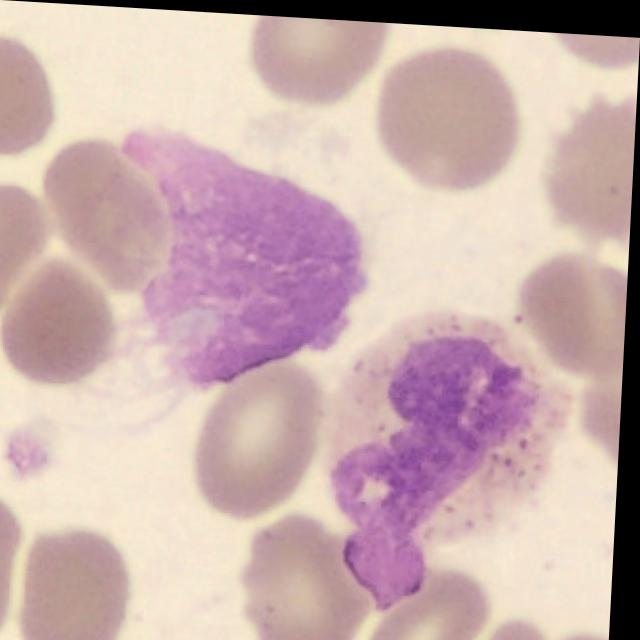Restos celulares: (332, 301, 577, 604), (124, 124, 371, 383)
